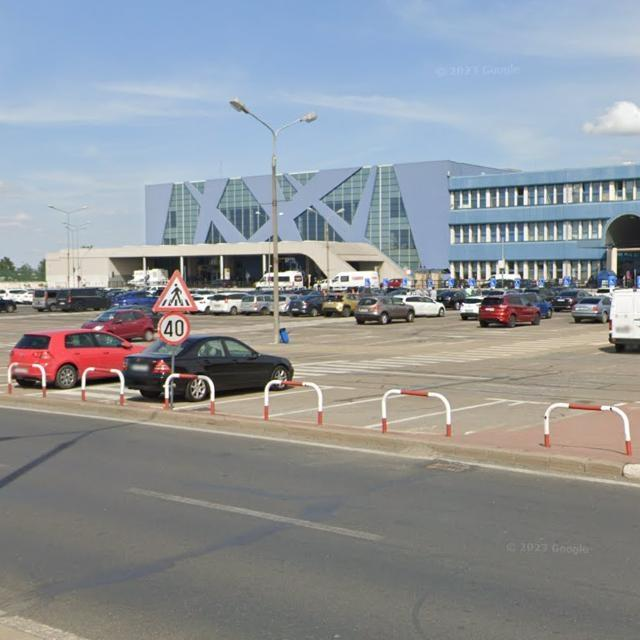forb_speed_over_40: (158, 313, 190, 345)
warn_crosswalk: (152, 269, 198, 312)
